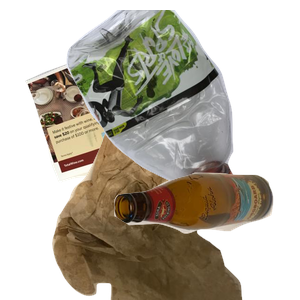glass: (111, 170, 300, 300)
paper: (23, 24, 232, 199)
plastic: (64, 10, 300, 190)
trash: (50, 120, 285, 300)
